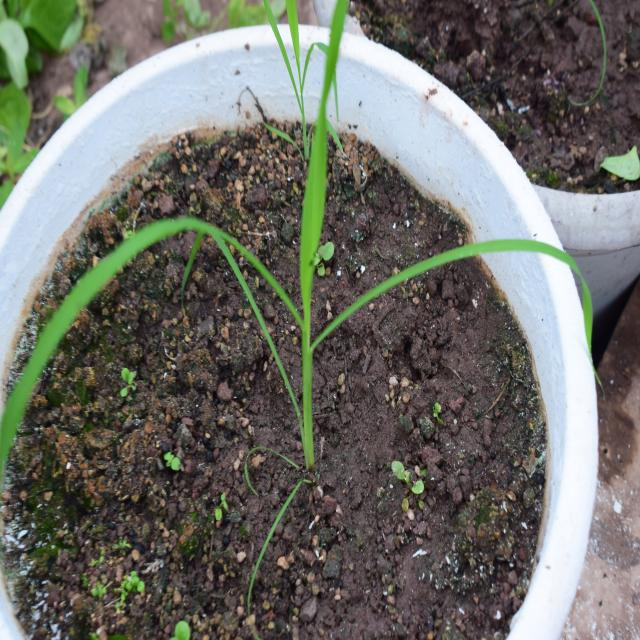barnyard_grass: (27, 39, 558, 468)
